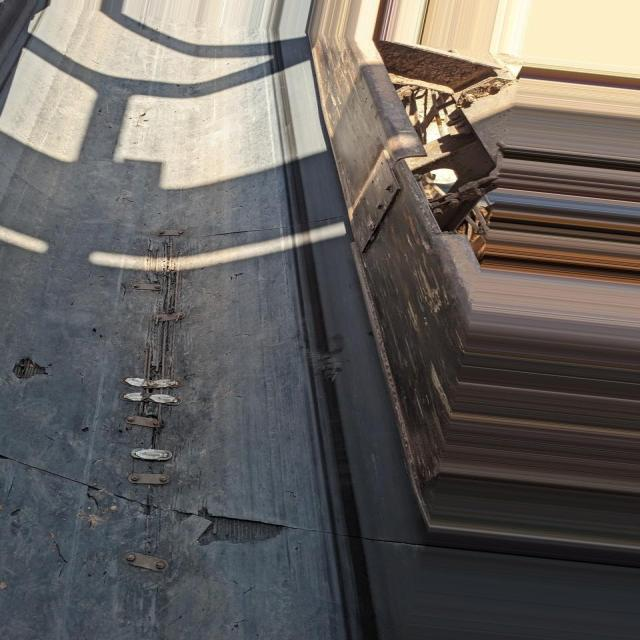Tear: (0, 458, 293, 552), (9, 348, 56, 387), (200, 224, 264, 243)
patch work: (101, 224, 202, 506), (110, 530, 174, 579)
